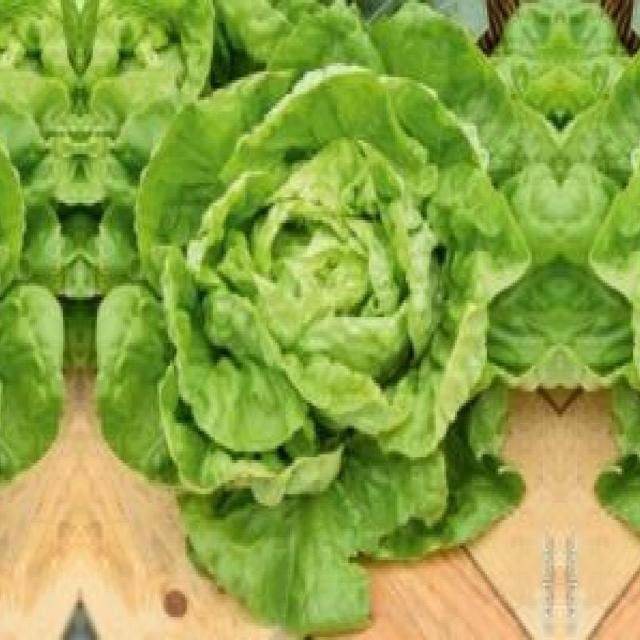healthy: (132, 71, 560, 603), (560, 71, 640, 603), (0, 71, 28, 603)
